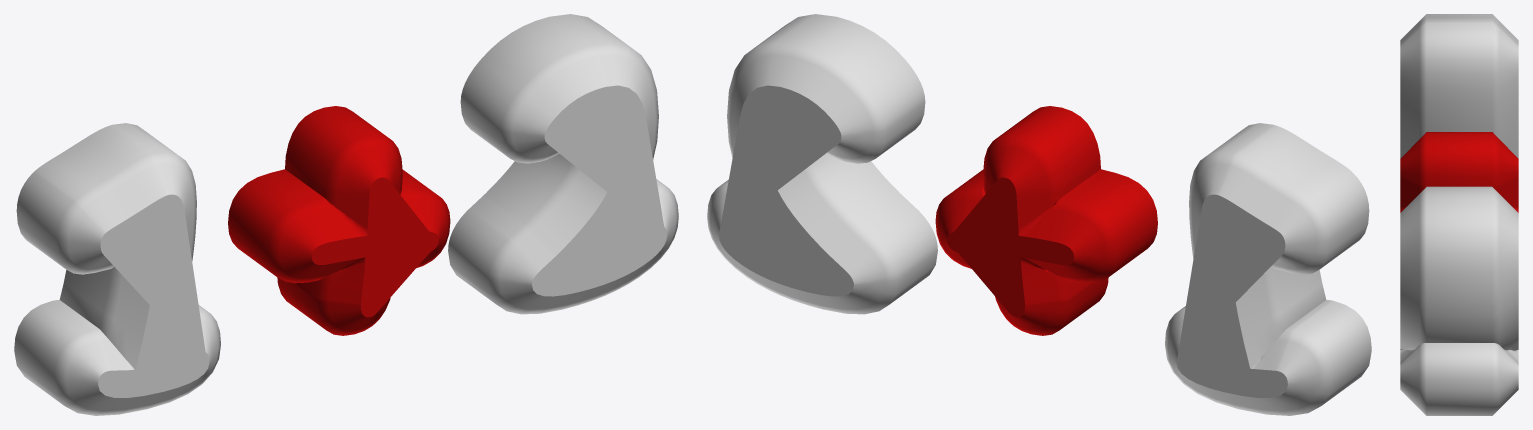
Rendered from Math.fbx.
3 renders of one model, left to right at view 1: azimuth 30°, elevation 25°; view 2: azimuth 150°, elevation 25°; view 3: azimuth 270°, elevation 25°, orthographic. The views are drawn at different scales.
Parts seen in each view (by area): view 1: polySurface1; view 2: polySurface1; view 3: polySurface1.
Boxes of the visible parts, bbox=[...] form: polySurface1: bbox=[14, 14, 678, 415]; polySurface1: bbox=[707, 14, 1371, 415]; polySurface1: bbox=[1400, 14, 1518, 415].
Bounding box in the file's own units: 2.25 × 0.8834 × 0.45.
